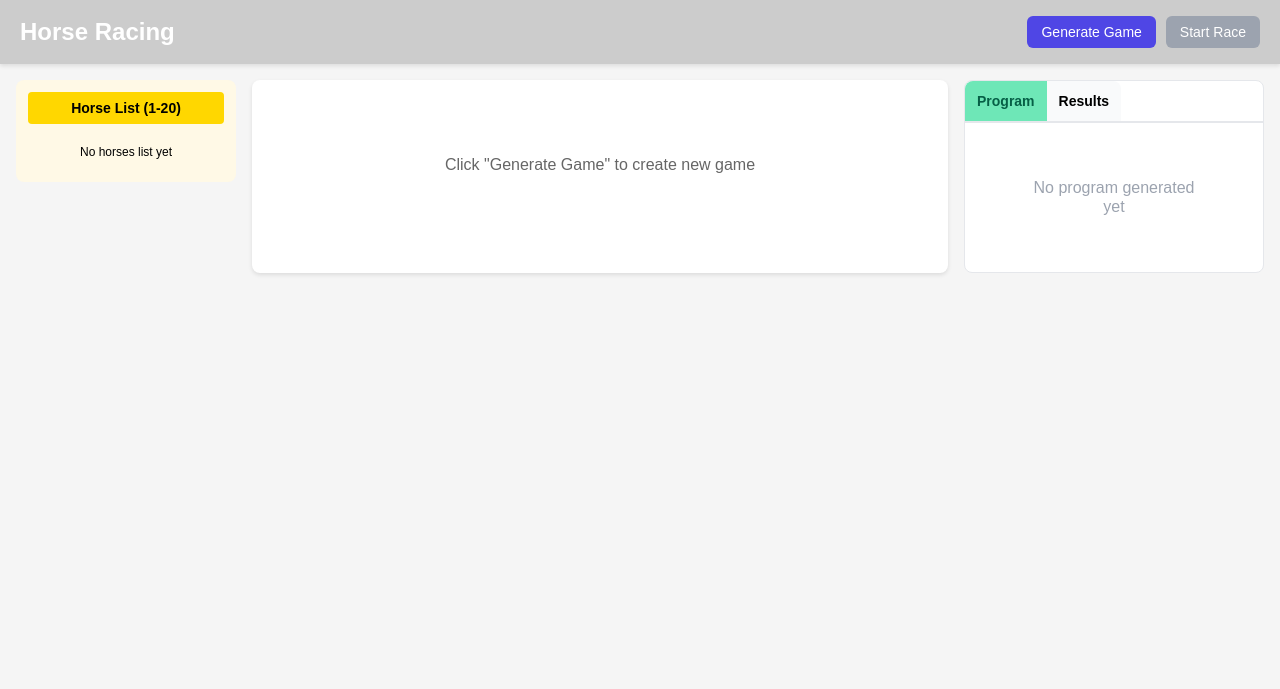
Test: Horse Racing Game › should start race and show animation
Click the button "Generate Game".
click(1092, 32)  # box x1=1028 y1=16 x2=1156 y2=48
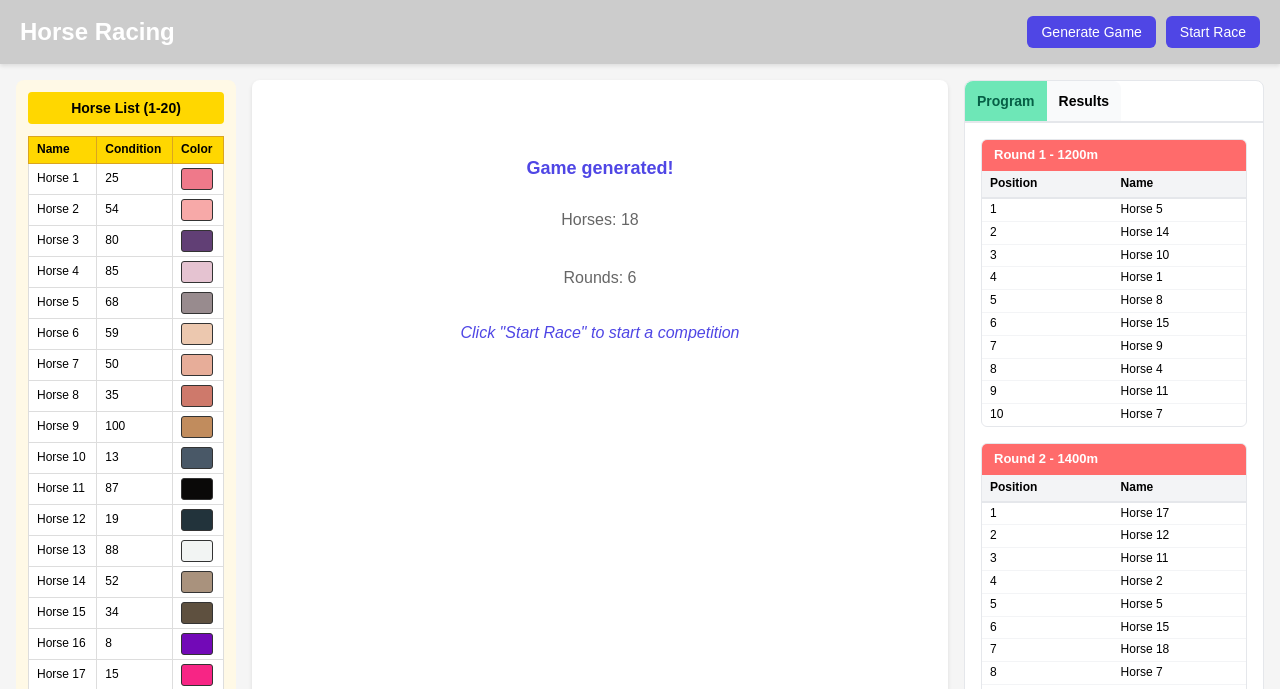
Click the button "Start Race".
click(1213, 32)  # box x1=1166 y1=16 x2=1260 y2=48
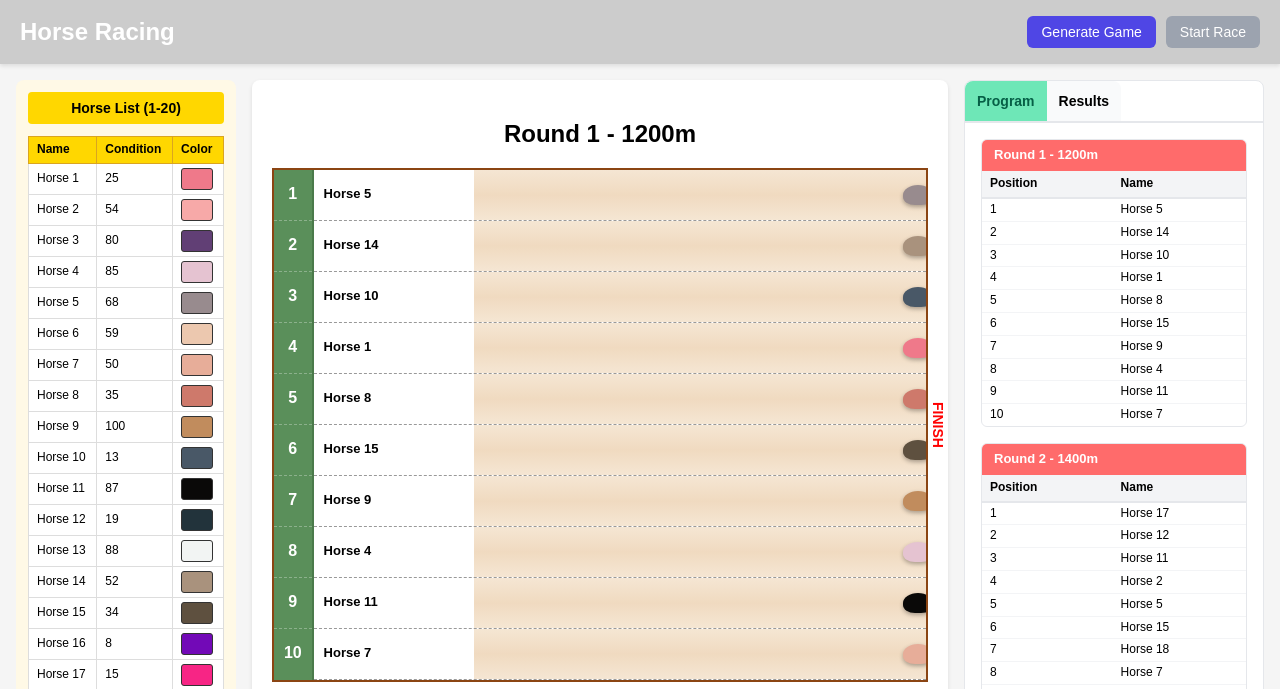
Expected: the element with class "track-container" is shown, x1=272 y1=120 x2=928 y2=682
Expected: the heading "Round 1 - 1200m" is shown, x1=504 y1=120 x2=696 y2=147
Expected: the number of elements with class "lane" is 10
